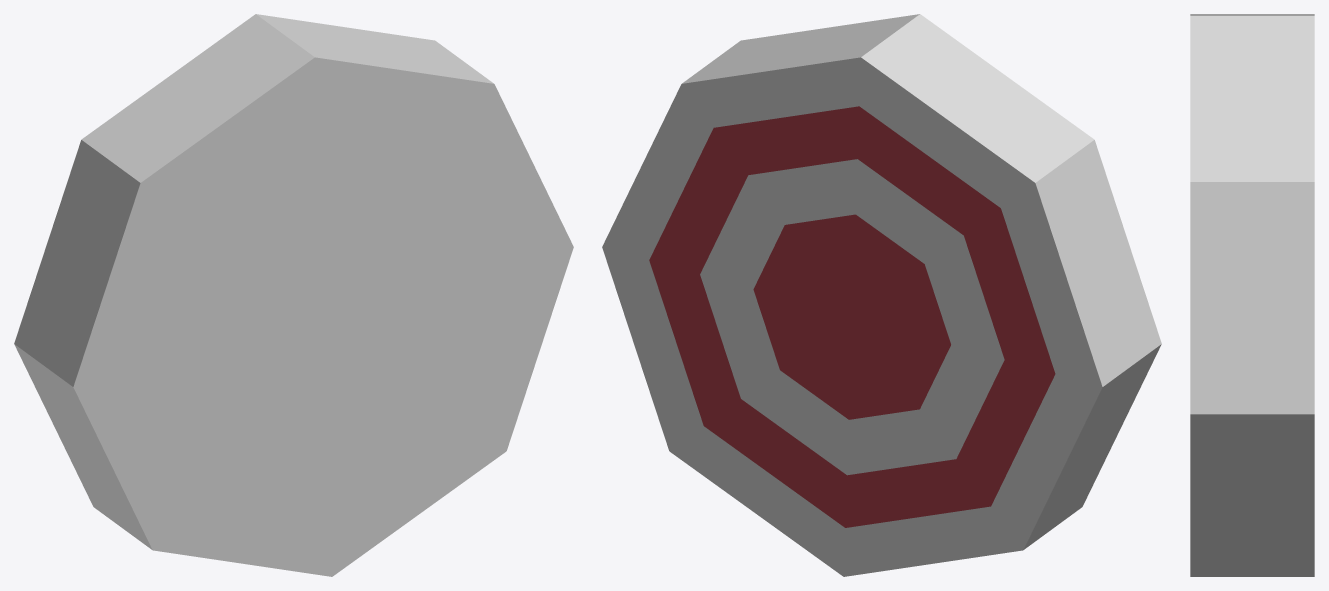
File: diana.glb
3 views of the same model, side by side, from view 1: azimuth 30°, elevation 25°; view 2: azimuth 150°, elevation 25°; view 3: azimuth 270°, elevation 25° (orthographic). The views are drawn at different scales.
Parts seen in each view (by area): view 1: Cylinder.003; view 2: Cylinder.003; view 3: Cylinder.003.
Boxes of the visible parts, box(x1,y1,x2,y2) form: Cylinder.003: box(14, 14, 573, 576); Cylinder.003: box(602, 14, 1161, 576); Cylinder.003: box(1190, 14, 1314, 576).
Bounding box in the file's own units: 0.5264 × 0.5264 × 0.108.
